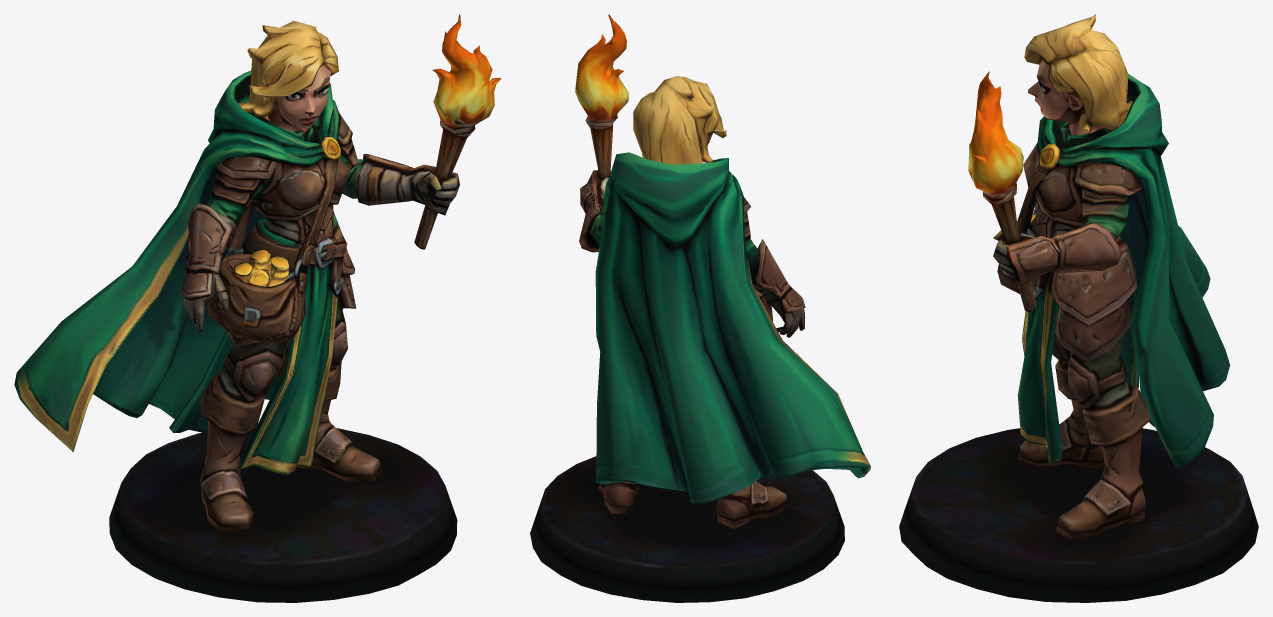
The model's file is hero3.glb.
The picture shows the model from 3 angles, left to right: view 1: azimuth 30°, elevation 25°; view 2: azimuth 150°, elevation 25°; view 3: azimuth 270°, elevation 25°; orthographic projection. The views are drawn at different scales.
Visible parts, largest first — view 1: geometry_0; view 2: geometry_0; view 3: geometry_0.
Part boxes in pixels (x1,y1,x2,y2): geometry_0: (14,14,501,602); geometry_0: (530,14,870,602); geometry_0: (899,14,1258,602).
Bounding box in the file's own units: 0.7671 × 0.9541 × 0.5952.
1 material, 1 textured.
